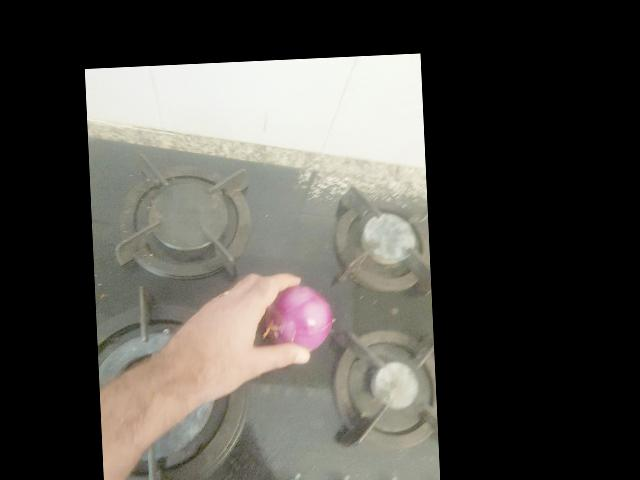onion: (264, 283, 337, 354)
